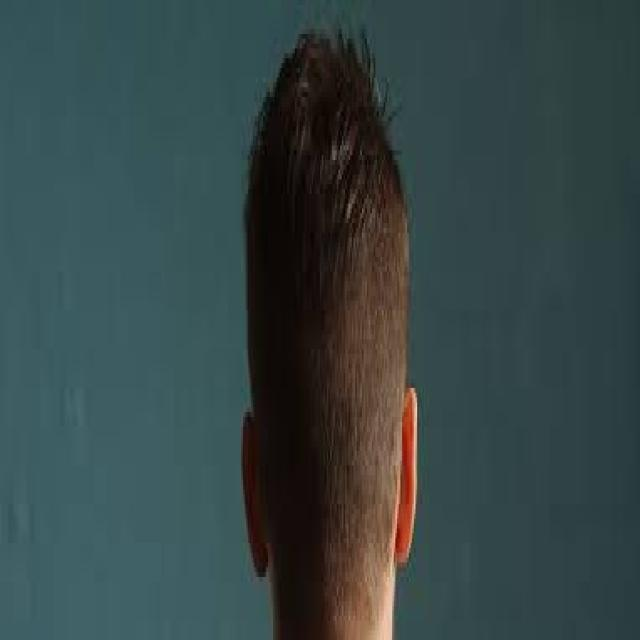Non_Helmet: (224, 0, 432, 592)
